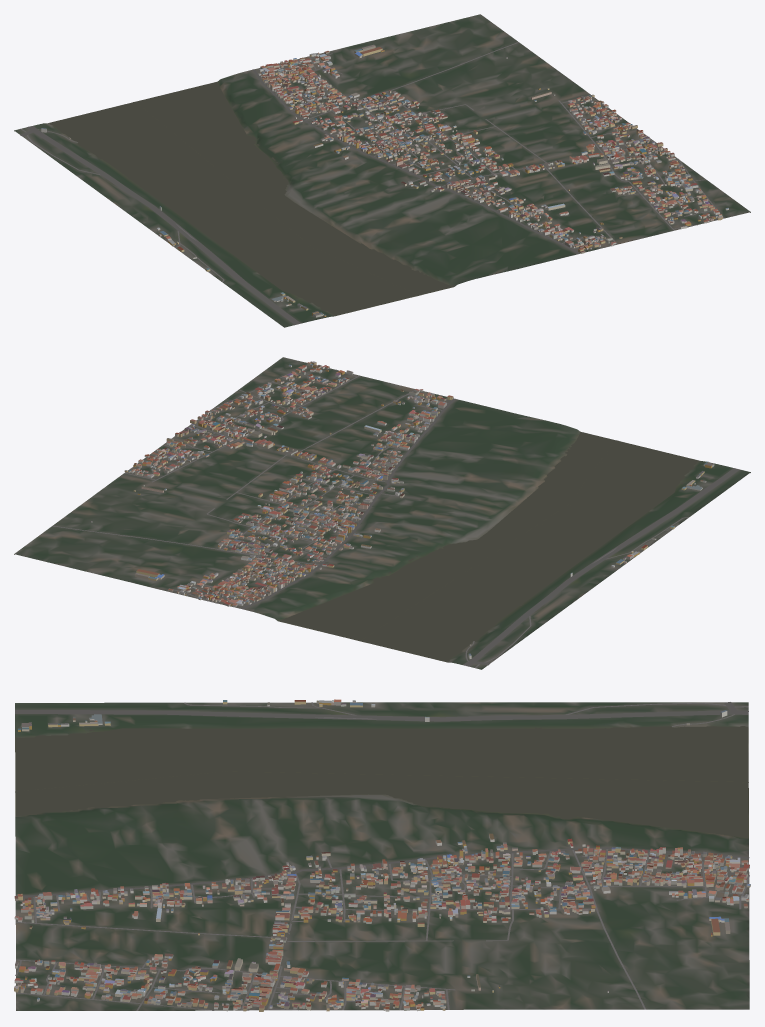
3 views of the same model, one above another, from view 1: azimuth 30°, elevation 25°; view 2: azimuth 150°, elevation 25°; view 3: azimuth 270°, elevation 25° (orthographic). The views are drawn at different scales.
Parts seen in each view (by area): view 1: ground, water, buildings, roads; view 2: ground, water, buildings, roads; view 3: ground, water, buildings, roads.
Part boxes in pixels (bbox=[...]): ground: bbox=[14, 14, 750, 327]; water: bbox=[49, 82, 452, 315]; buildings: bbox=[41, 44, 728, 317]; roads: bbox=[20, 42, 724, 324]; ground: bbox=[14, 357, 750, 669]; water: bbox=[279, 432, 699, 661]; buildings: bbox=[91, 361, 714, 658]; roads: bbox=[52, 365, 739, 667]; ground: bbox=[15, 702, 749, 1010]; water: bbox=[15, 726, 748, 838]; buildings: bbox=[14, 699, 750, 1011]; roads: bbox=[15, 702, 749, 1010].
Size of the model in its own units: 1412 by 26.7 by 1408.
